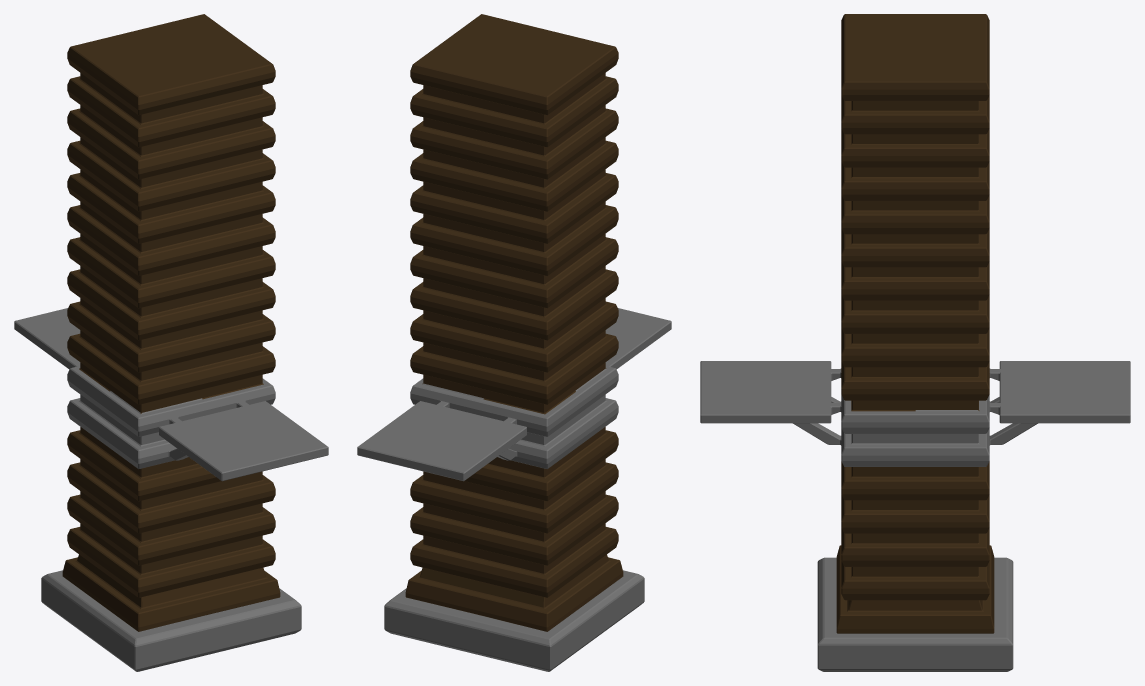
Rendered from SortPipe.fbx.
The picture shows the model from 3 angles, left to right: view 1: azimuth 30°, elevation 25°; view 2: azimuth 150°, elevation 25°; view 3: azimuth 270°, elevation 25°; orthographic projection. The views are drawn at different scales.
Parts seen in each view (by area): view 1: Cube; view 2: Cube; view 3: Cube.
Boxes of the visible parts, x1,y1,x2,y2 form: Cube: (14, 14, 328, 671); Cube: (357, 14, 671, 671); Cube: (700, 14, 1130, 671).
Size of the model in its own units: 241 by 780 by 521.
